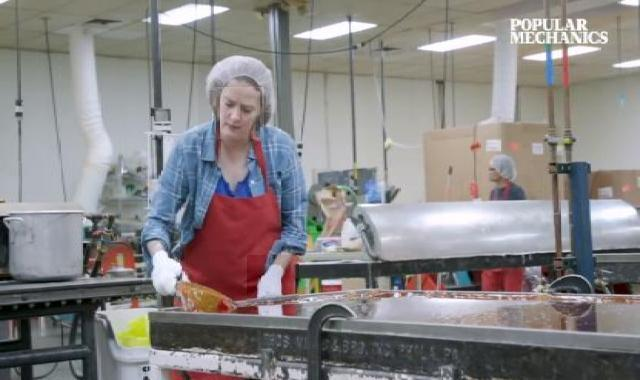apron: (247, 256, 299, 304), (143, 242, 187, 296), (485, 148, 533, 175)
gloves: (198, 55, 276, 138)
no_hairnet: (213, 88, 265, 140), (483, 160, 511, 186)
